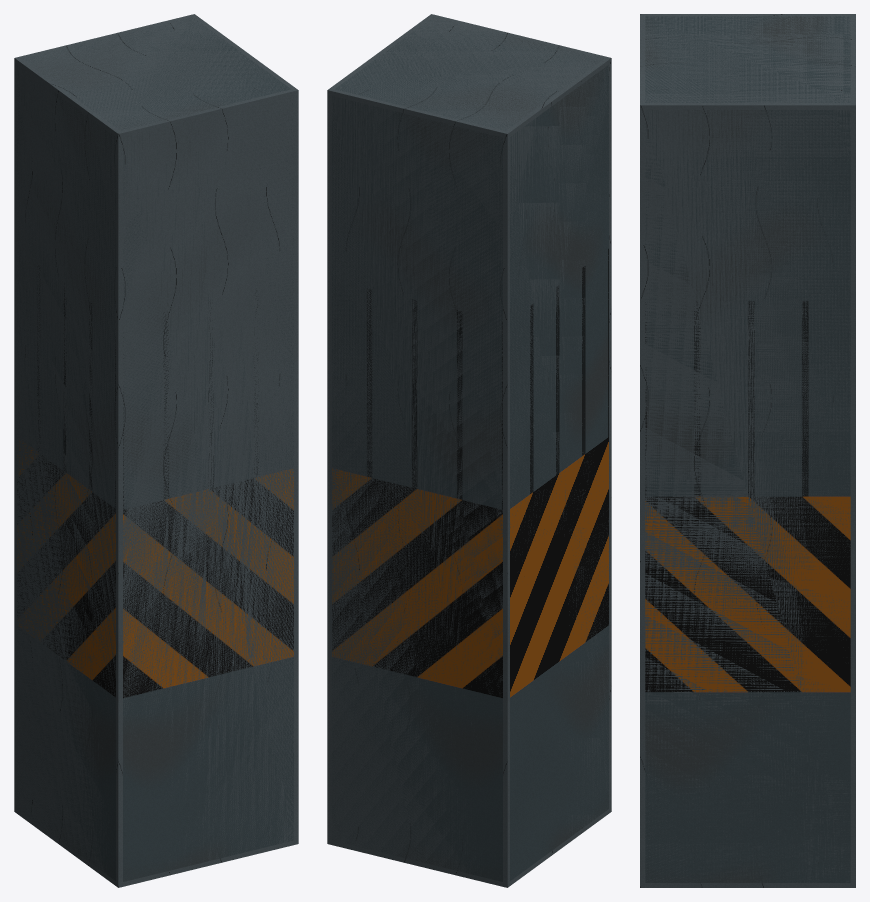
File: Wall_Pillar.fbx
3 views of the same model, side by side, from view 1: azimuth 30°, elevation 25°; view 2: azimuth 150°, elevation 25°; view 3: azimuth 270°, elevation 25° (orthographic). The views are drawn at different scales.
Visible parts, largest first — view 1: COL_Foundry_Wall_Pillar_00_Both, ENV_Foundry_Wall_Pillar_LOD0; view 2: ENV_Foundry_Wall_Pillar_LOD0, COL_Foundry_Wall_Pillar_00_Both; view 3: ENV_Foundry_Wall_Pillar_LOD0, COL_Foundry_Wall_Pillar_00_Both.
Part boxes in pixels (left/top/right/bottom): COL_Foundry_Wall_Pillar_00_Both: left=14, top=14, right=298, bottom=887; ENV_Foundry_Wall_Pillar_LOD0: left=17, top=17, right=293, bottom=881; ENV_Foundry_Wall_Pillar_LOD0: left=332, top=17, right=608, bottom=881; COL_Foundry_Wall_Pillar_00_Both: left=327, top=14, right=611, bottom=887; ENV_Foundry_Wall_Pillar_LOD0: left=645, top=16, right=850, bottom=882; COL_Foundry_Wall_Pillar_00_Both: left=640, top=14, right=855, bottom=887.
Size of what is drawn, in the model's own units: 1 by 4 by 1.
